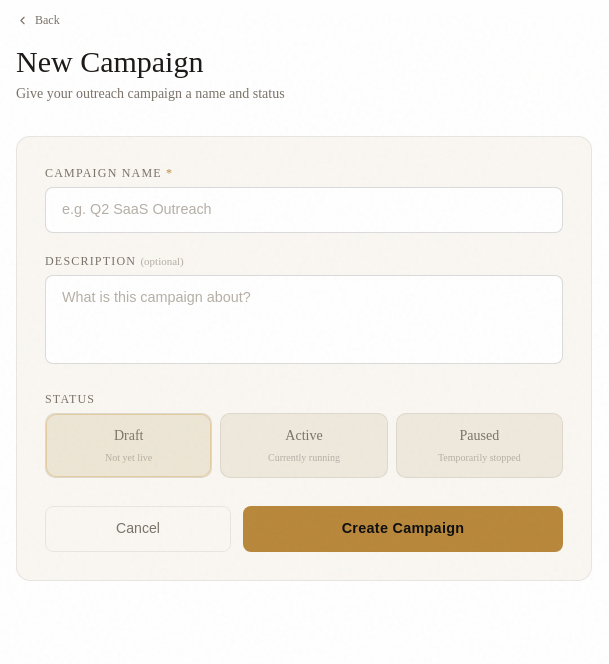
Test case: NewCampaignPage › shows error message when createCampaign returns error
The image size is (609, 664).
Fill the name field so the required constraint doesn't block submission
In the field labelled "Campaign Name *": [304, 210] box [45, 187, 563, 233], type "Test"
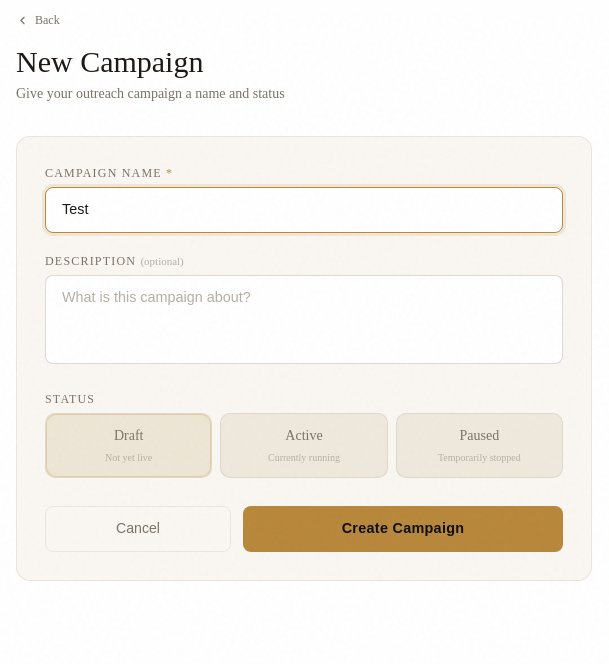
Click the button "Create Campaign": [403, 529] box [243, 506, 563, 552]
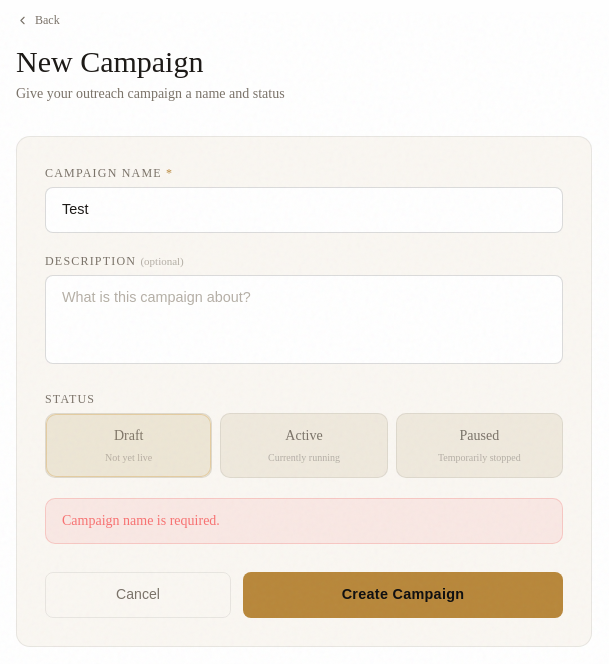
Result: the text "Campaign name is required." is shown at [45, 498, 563, 544]
